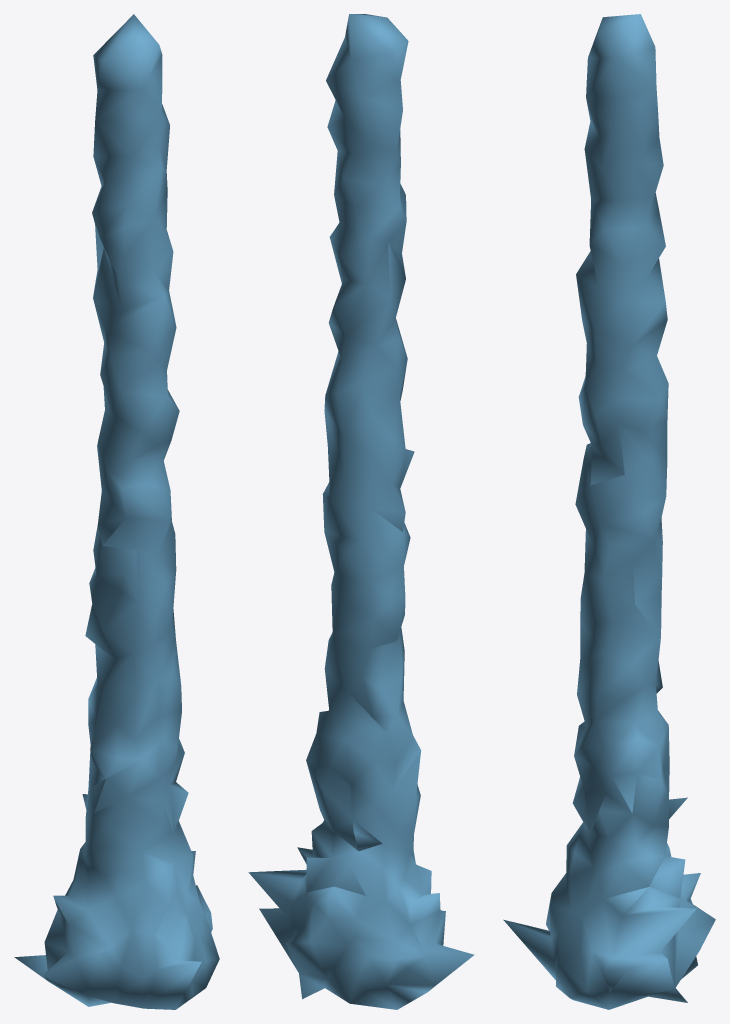
The model's file is hvs_crystal_large02_lod1.fbx.
The picture shows the model from 3 angles, left to right: view 1: azimuth 30°, elevation 25°; view 2: azimuth 150°, elevation 25°; view 3: azimuth 270°, elevation 25°; orthographic projection.
Visible parts, largest first — view 1: hvs_crystal_large02.009; view 2: hvs_crystal_large02.009; view 3: hvs_crystal_large02.009.
Boxes of the visible parts, x1,y1,x2,y2 form: hvs_crystal_large02.009: (14, 14, 219, 1009); hvs_crystal_large02.009: (248, 14, 474, 1009); hvs_crystal_large02.009: (503, 14, 715, 1009).
Bounding box in the file's own units: 13.15 × 66.79 × 13.03.
